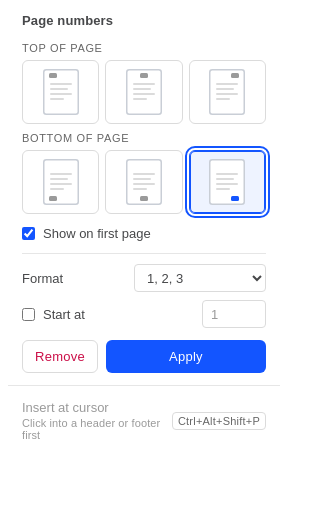
Scenario: PageNumberMenu › explains a section that already has page numbers, and a failed remove
Click the radio button named "Top of page, right" at point(227, 92), box [189, 60, 266, 124]
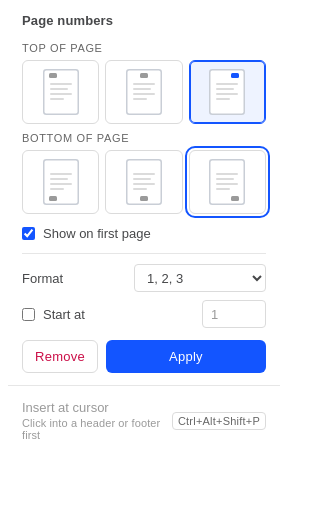
Click the button "Apply" at point(186, 356), box [106, 340, 266, 373]
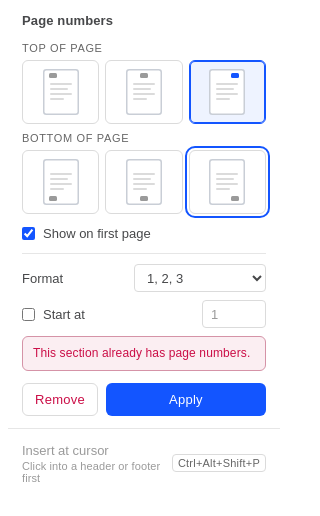
Check: the message "This section already has page numbers." is shown, box [22, 336, 266, 371]
Click the button "Remove" at point(60, 399), box [22, 383, 98, 416]
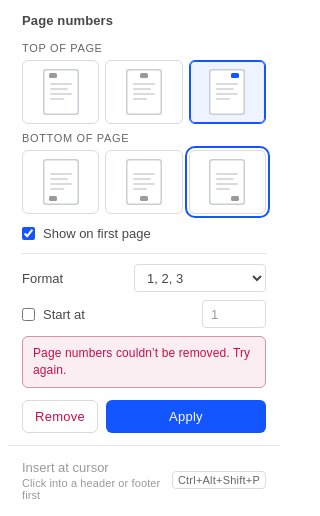
Check: the message "Page numbers couldn’t be removed. Try again." is shown, box [22, 336, 266, 388]
